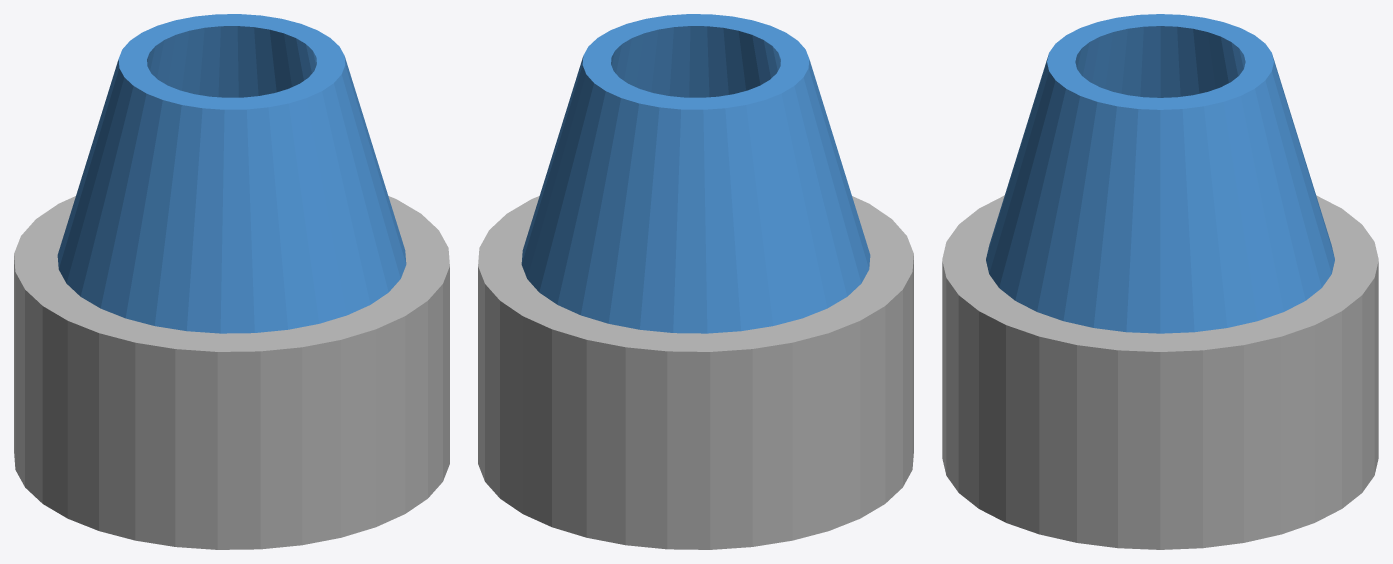
Rendered from Humidifier.glb.
3 renders of one model, left to right at view 1: azimuth 30°, elevation 25°; view 2: azimuth 150°, elevation 25°; view 3: azimuth 270°, elevation 25°, orthographic.
Visible parts, largest first — view 1: base, skel; view 2: base, skel; view 3: base, skel.
Part boxes in pixels (box(x1,y1,x2,y2)): base: box(14, 196, 449, 549); skel: box(57, 14, 406, 333); base: box(478, 196, 913, 549); skel: box(521, 14, 870, 333); base: box(942, 195, 1378, 549); skel: box(986, 14, 1334, 333).
Bounding box in the file's own units: 1 × 1 × 1.
